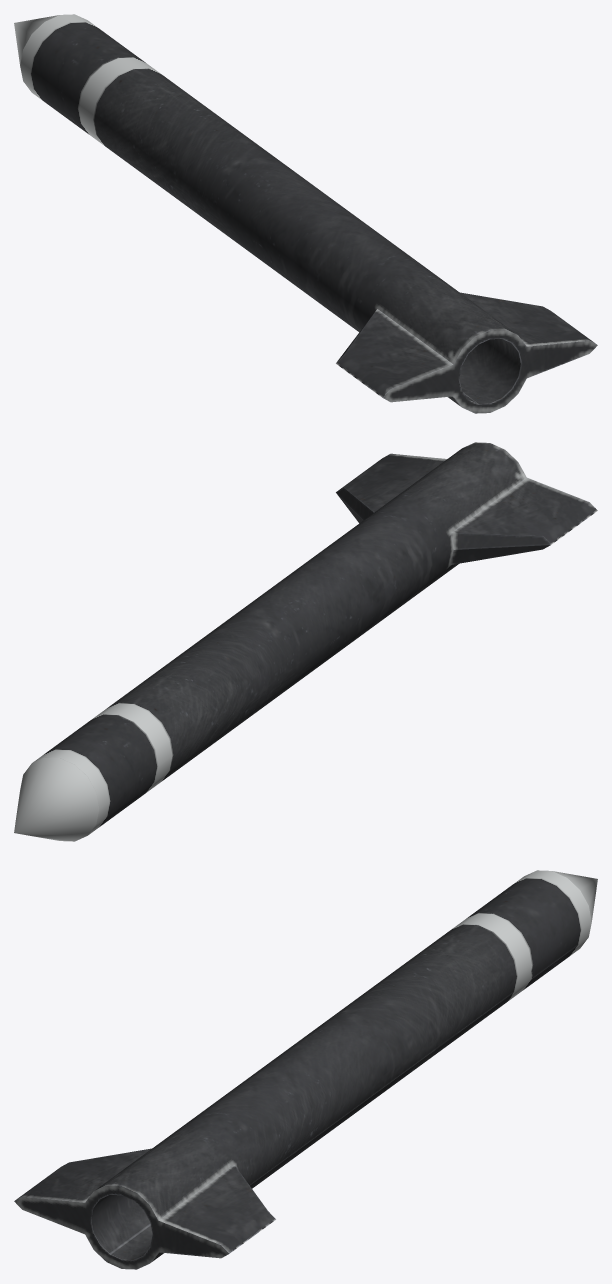
The model's file is Rakete.obj.
3 renders of one model, top to bottom at view 1: azimuth 30°, elevation 25°; view 2: azimuth 150°, elevation 25°; view 3: azimuth 330°, elevation 25°, orthographic.
Parts seen in each view (by area): view 1: Cone.008; view 2: Cone.008; view 3: Cone.008.
Part boxes in pixels (box(x1,y1,x2,y2)): Cone.008: box(14, 14, 597, 413); Cone.008: box(14, 442, 597, 841); Cone.008: box(14, 870, 597, 1269).
Bounding box in the file's own units: 1.11 × 0.4077 × 4.24.
